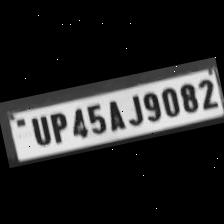0: (156, 83, 182, 119)
2: (192, 74, 220, 112)
4: (64, 103, 90, 140)
5: (82, 99, 108, 136)
8: (174, 79, 200, 115)
9: (136, 86, 162, 124)
A: (102, 95, 128, 132)
J: (120, 90, 144, 128)
P: (44, 109, 70, 145)
U: (24, 112, 52, 148)
